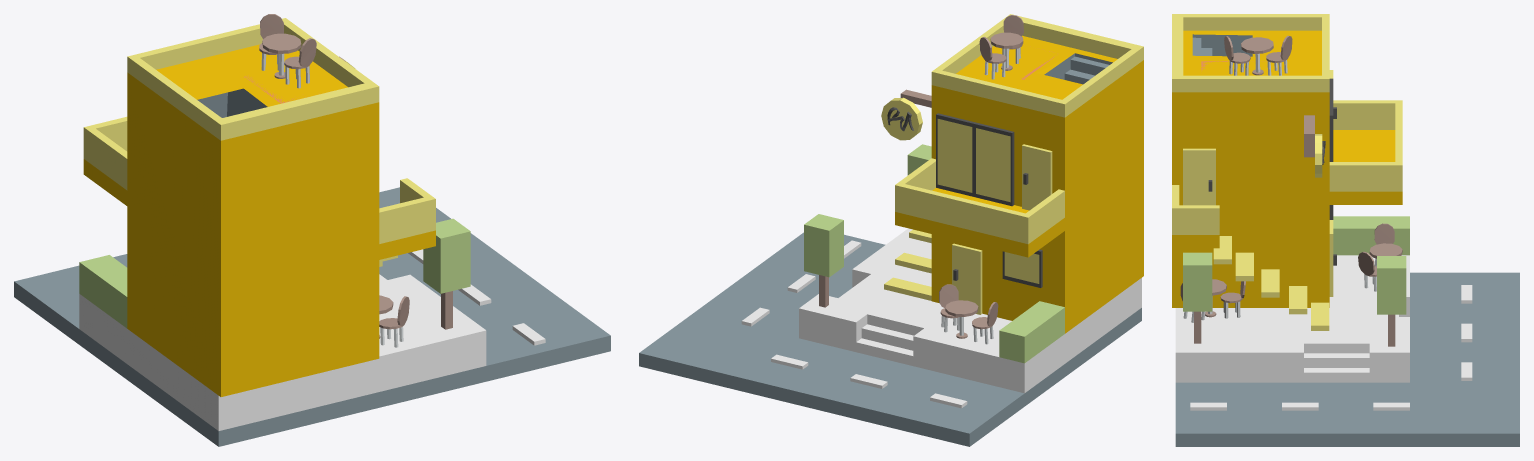
The model's file is xjam coffee shop.fbx.
3 renders of one model, left to right at view 1: azimuth 30°, elevation 25°; view 2: azimuth 150°, elevation 25°; view 3: azimuth 270°, elevation 25°, orthographic. The views are drawn at different scales.
Visible parts, largest first — view 1: mesh1572421955, mesh585740562, mesh1335705472, mesh1001450229, mesh556567555, mesh892336931, mesh1947830147, mesh831856698, mesh35354719, mesh438912186, mesh1831228031, mesh1788979158 (+4 smaller); view 2: mesh1572421955, mesh585740562, mesh1335705472, mesh904679484, mesh769969052, mesh586337861, mesh871356699, mesh1955253602, mesh1262001122, mesh892336931, mesh1377598692, mesh379537652 (+16 smaller); view 3: mesh1572421955, mesh585740562, mesh1335705472, mesh1001450229, mesh1262001122, mesh892336931, mesh1234518553, mesh1955253602, mesh876740425, mesh831856698, mesh556567555, mesh1377598692 (+21 smaller).
Boxes of the visible parts, x1,y1,x2,y2 form: mesh1572421955: (127,18,379,396); mesh585740562: (14,187,610,446); mesh1335705472: (99,285,452,430); mesh1001450229: (379,274,486,373); mesh556567555: (423,218,470,293); mesh892336931: (79,255,127,328); mesh1947830147: (379,195,435,243); mesh831856698: (83,125,127,190); mesh35354719: (375,230,435,260); mesh438912186: (262,33,301,78); mesh1831228031: (284,38,316,88); mesh1788979158: (379,296,409,347); mesh1572421955: (931,14,1143,333); mesh585740562: (639,232,1141,446); mesh1335705472: (844,242,1141,380); mesh904679484: (913,324,1041,393); mesh769969052: (901,184,1025,242); mesh586337861: (974,122,1014,206); mesh871356699: (936,113,975,196); mesh1955253602: (799,294,872,351); mesh1262001122: (895,188,1064,257); mesh892336931: (999,301,1064,363); mesh1377598692: (804,214,843,277); mesh379537652: (1022,144,1052,210); mesh1572421955: (1172,14,1329,307); mesh585740562: (1175,272,1519,446); mesh1335705472: (1175,255,1376,338); mesh1001450229: (1175,339,1303,382); mesh1262001122: (1329,130,1402,204); mesh892336931: (1333,216,1409,255); mesh1234518553: (1329,162,1402,191); mesh1955253602: (1369,325,1409,382); mesh876740425: (1183,148,1215,205); mesh831856698: (1333,100,1402,129); mesh556567555: (1183,252,1212,311); mesh1377598692: (1377,256,1406,314).
Size of the model in its own units: 104 by 90.05 by 95.
